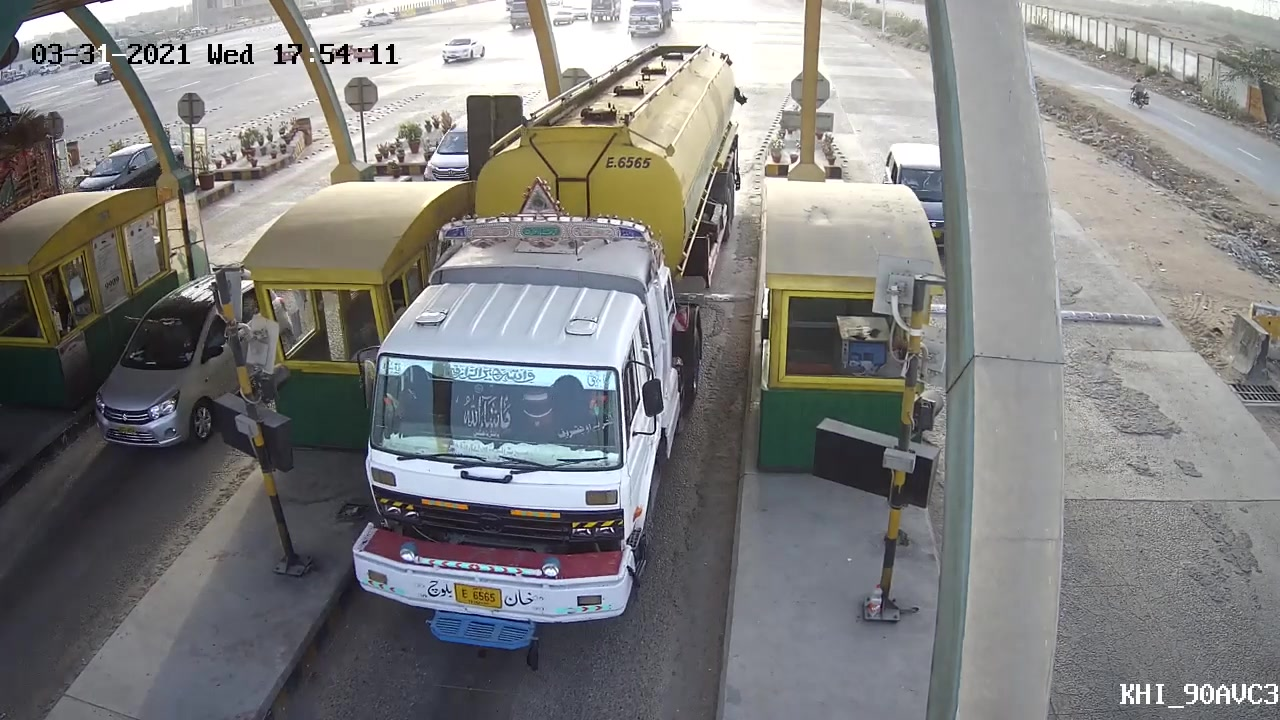F6: (331, 21, 756, 677)
